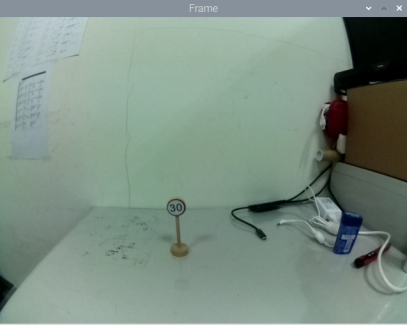Speed30: (164, 197, 188, 220)
